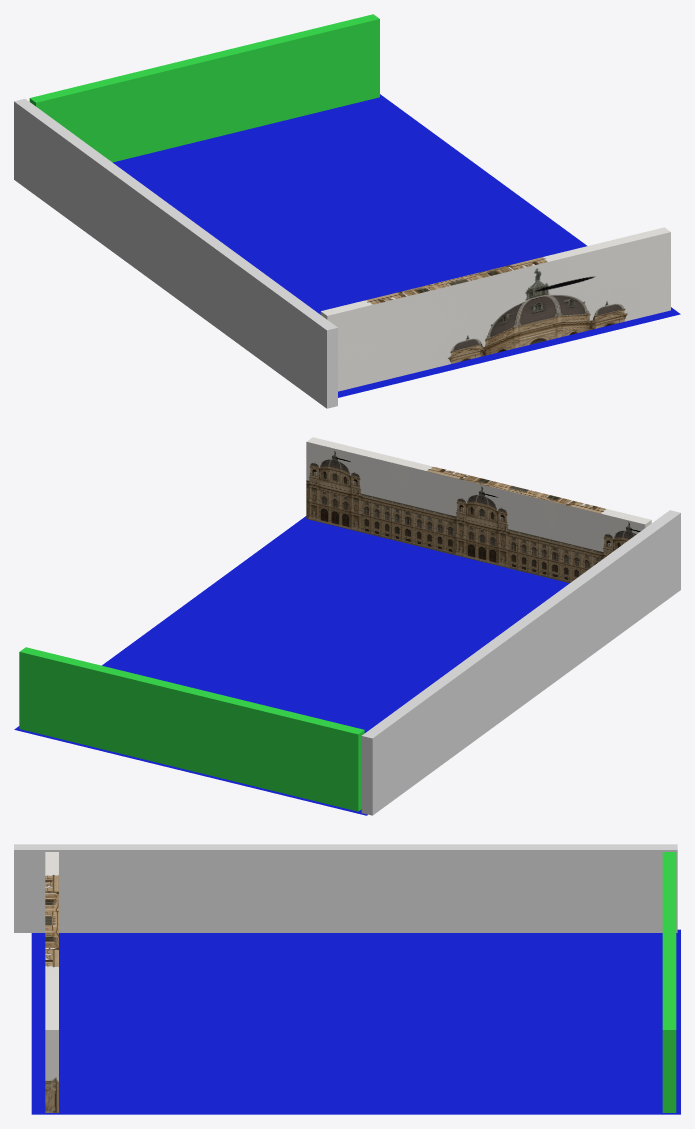
File: Main1.glb
3 views of the same model, one above another, from view 1: azimuth 30°, elevation 25°; view 2: azimuth 150°, elevation 25°; view 3: azimuth 270°, elevation 25° (orthographic). The views are drawn at different scales.
Visible parts, largest first — view 1: Cube, Cube.003, Cube.001, Cube.002; view 2: Cube, Cube.002, Cube.003, Cube.001; view 3: Cube, Cube.003, Cube.002, Cube.001.
Boxes of the visible parts, box(x1,y1,x2,y2) form: Cube: box(113, 94, 680, 397); Cube.003: box(14, 98, 337, 408); Cube.001: box(320, 227, 670, 391); Cube.002: box(29, 14, 379, 162); Cube: box(14, 516, 569, 815); Cube.002: box(19, 647, 364, 811); Cube.003: box(361, 510, 680, 815); Cube.001: box(306, 437, 651, 583); Cube: box(31, 929, 680, 1114); Cube.003: box(14, 844, 677, 932); Cube.002: box(662, 852, 676, 1112); Cube.001: box(45, 852, 58, 1112).
Size of the model in its own units: 28.75 by 6.19 by 43.23.
Materials: 4 (1 with a texture image).
